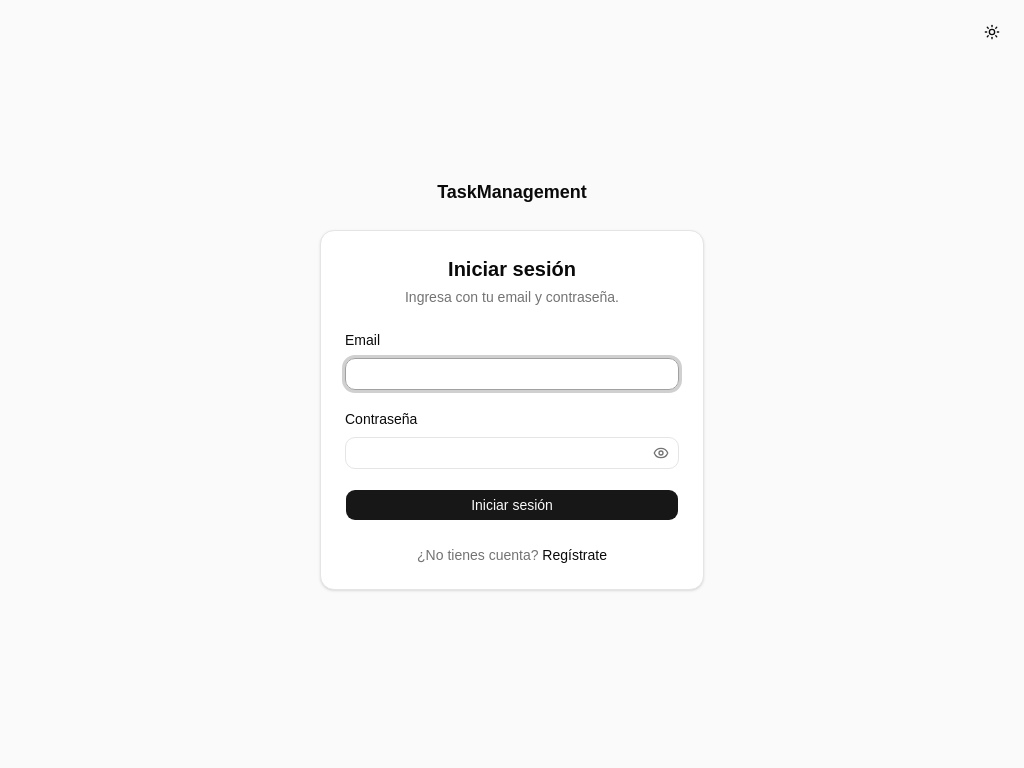
Test: Navegación y permisos › "Salir" revoca la sesión en el backend y vuelve al login
This screenshot has width=1024, height=768.
Type "admin@test.com" into the field labelled "Email". click: coordinates (512, 374)
box: [345,358,679,390]
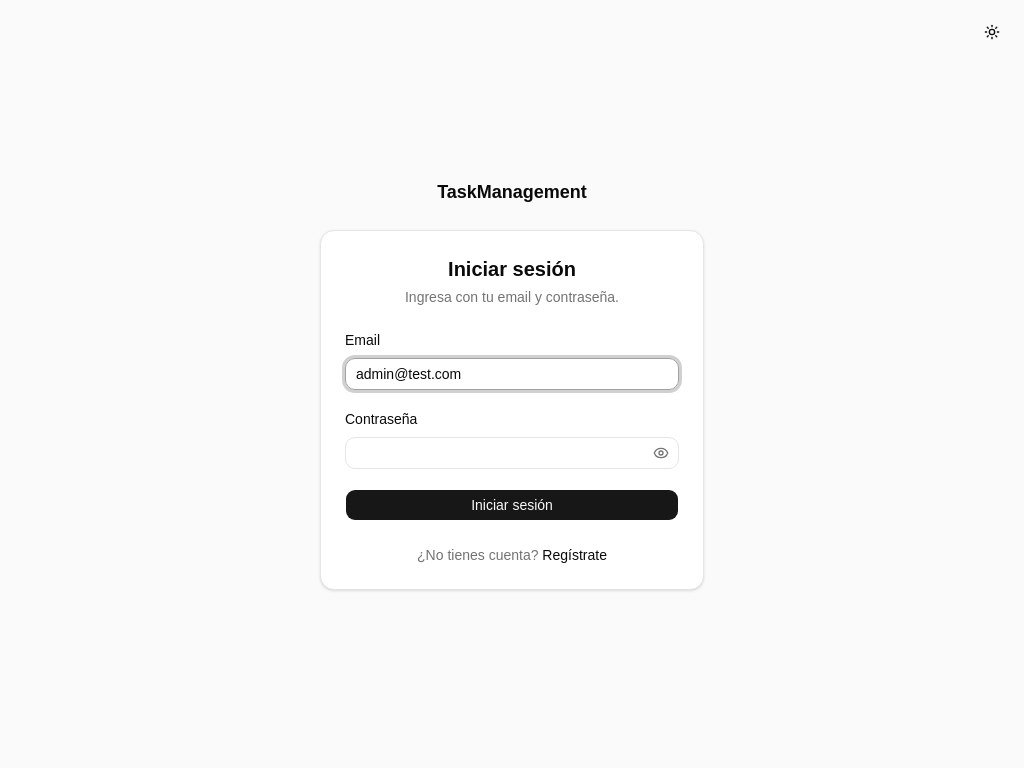
Type "Clave1234" into the password field labelled "Contraseña". click: coordinates (512, 453)
box: [345,437,679,469]
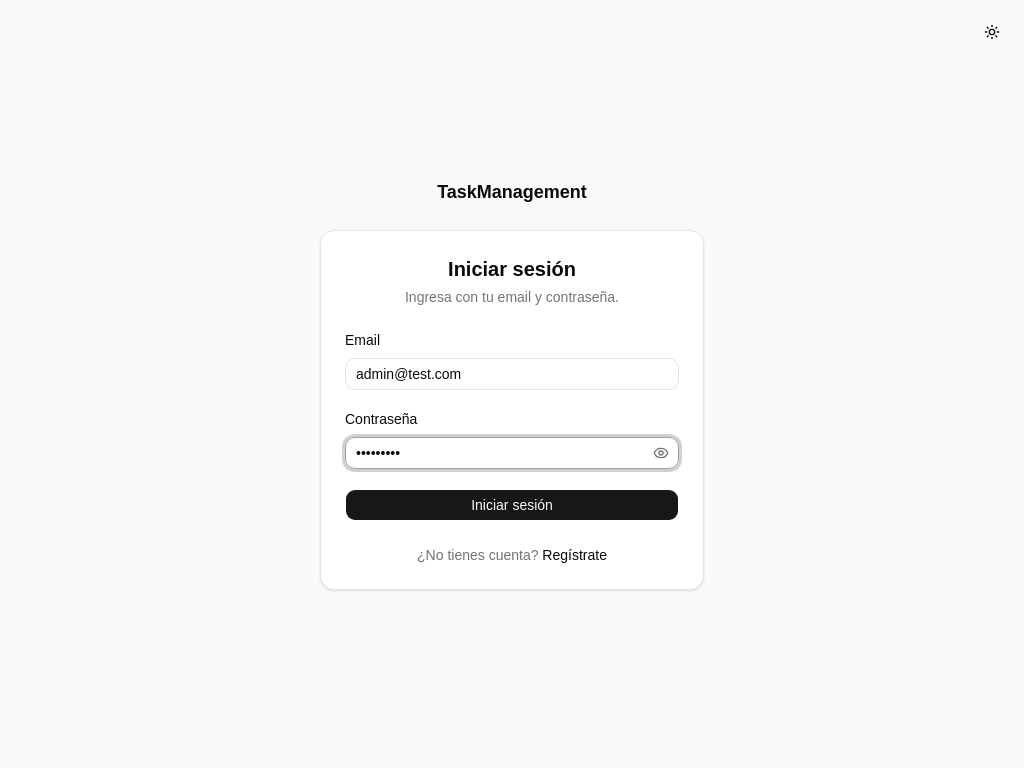
Click the button "Iniciar sesión". click: coordinates (512, 505)
box: [345,489,679,521]
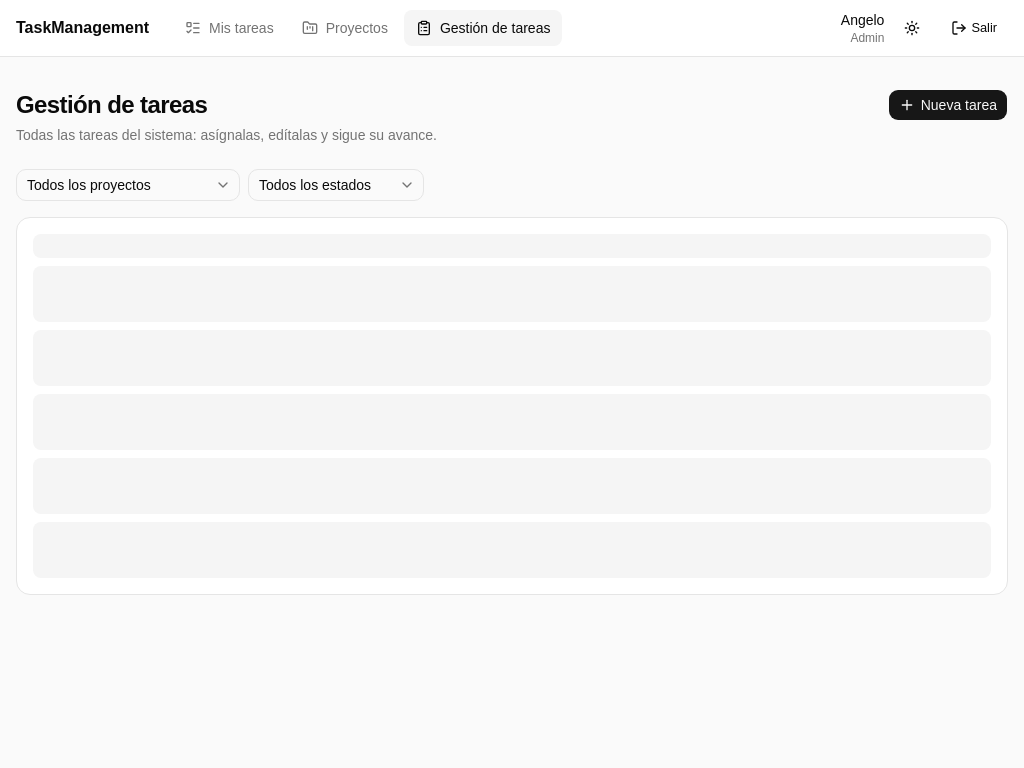
Click the button with aria-label "Cerrar sesión". click: coordinates (974, 28)
box: [940,14,1008,42]
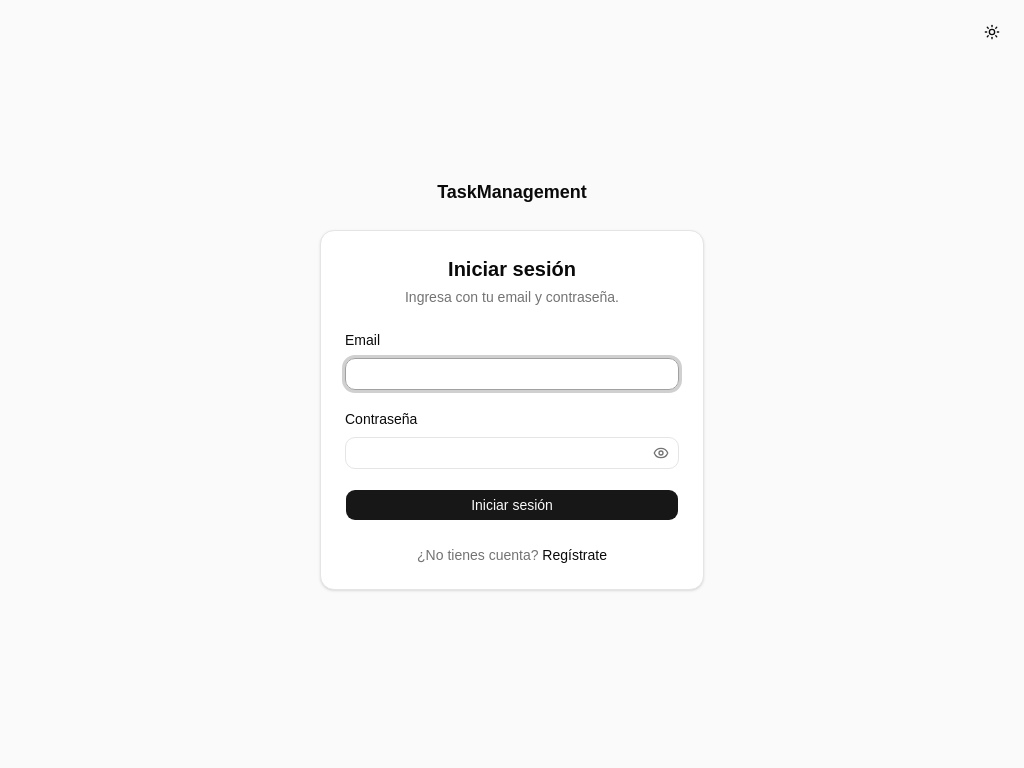
Expected: the heading "Iniciar sesión" is shown, [448,258,576,280]
